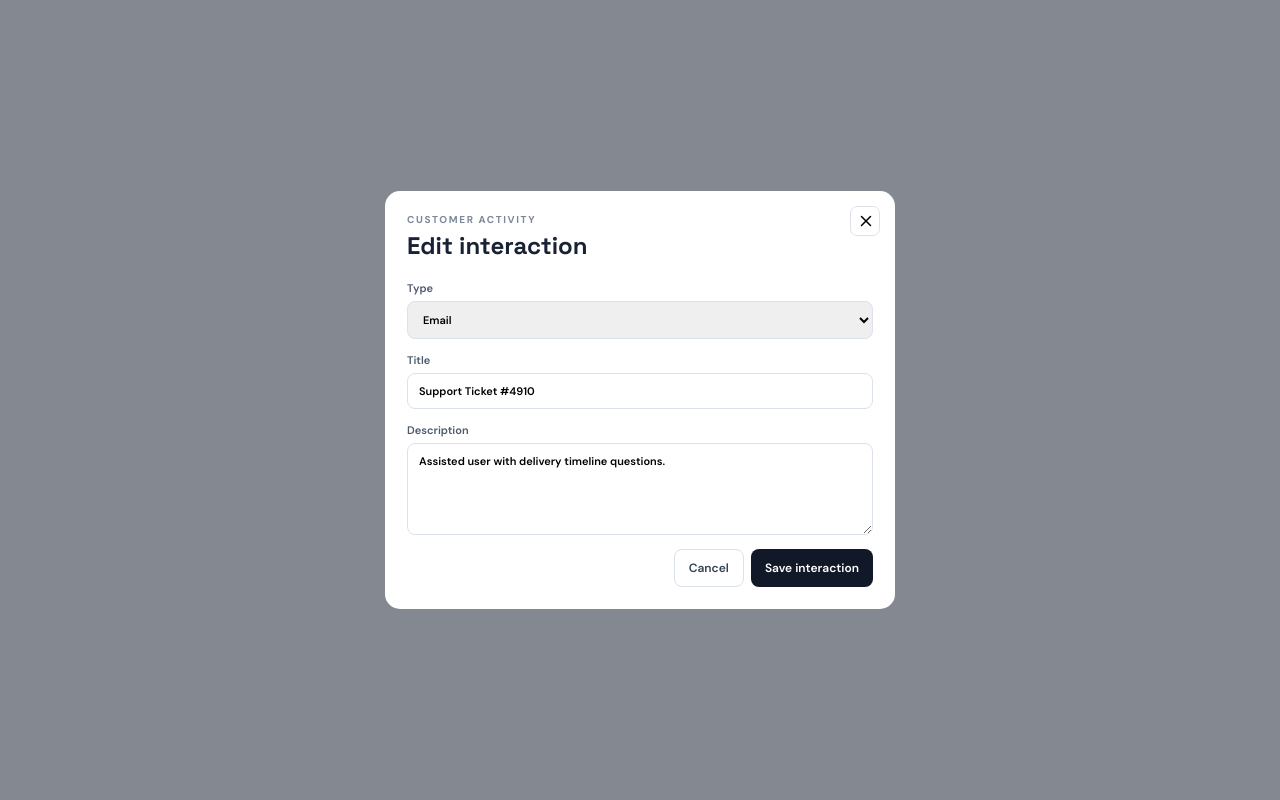
Test: InteractionModal Component › displays error message when save rejects
Click the button "Save interaction" at (812, 568), box x1=751 y1=549 x2=873 y2=587
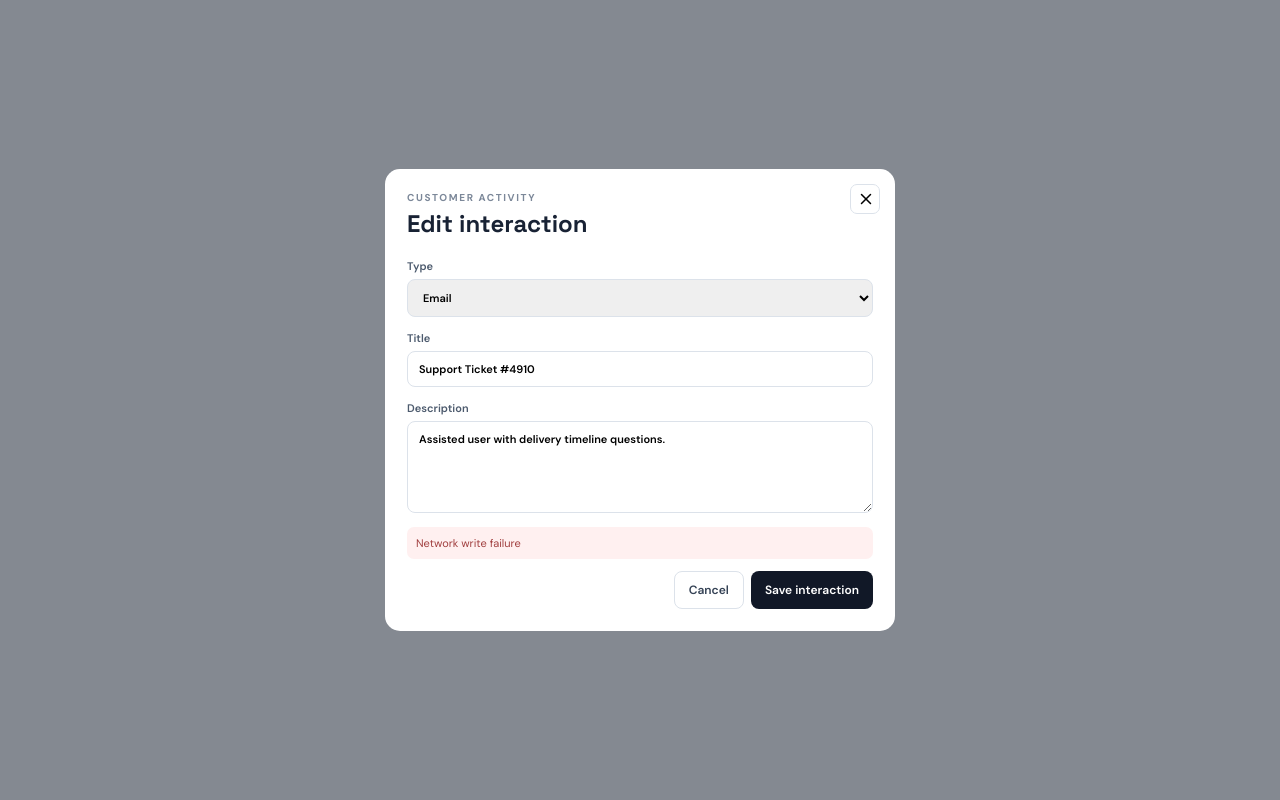
Check: the text "Network write failure" is shown, box x1=407 y1=527 x2=873 y2=559
